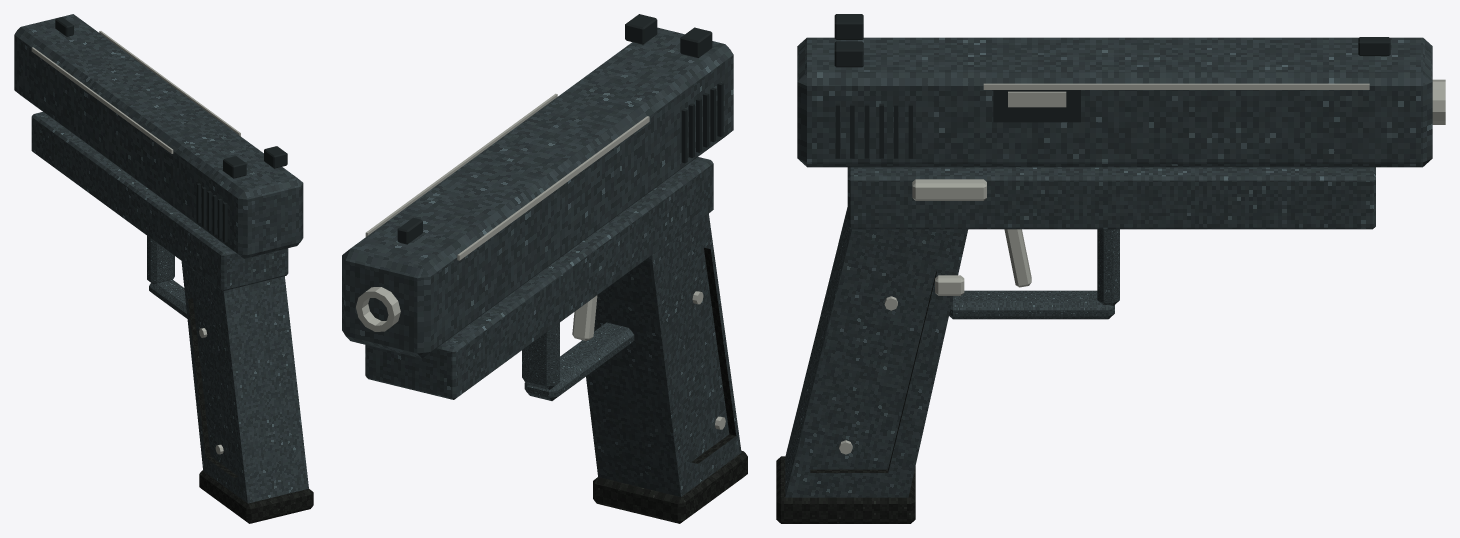
The model's file is pistol.glb.
3 renders of one model, left to right at view 1: azimuth 30°, elevation 25°; view 2: azimuth 150°, elevation 25°; view 3: azimuth 270°, elevation 25°, orthographic. The views are drawn at different scales.
Visible parts, largest first — view 1: Frame, Slide, Magazine; view 2: Slide, Frame, Magazine, Barrel; view 3: Slide, Frame, Magazine.
Part boxes in pixels (x1,y1,x2,y2): Frame: (31,112,308,503); Slide: (14,14,303,258); Magazine: (199,470,313,523); Slide: (342,14,733,358); Frame: (365,157,741,496); Magazine: (593,450,747,523); Barrel: (356,287,400,331); Slide: (797,14,1432,167); Frame: (785,167,1375,497); Magazine: (776,456,915,523).
Size of the model in its own units: 0.0404 by 0.1605 by 0.2065.
Materials: 4 (2 with a texture image).
